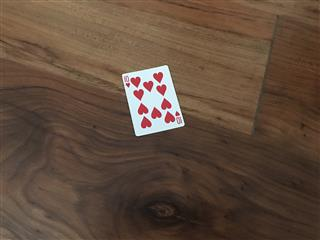TenOfHearts: (120, 63, 186, 136)
